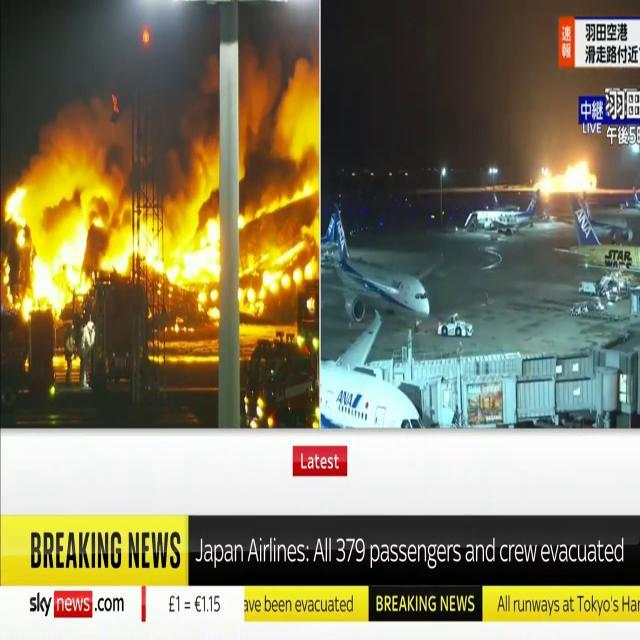Fire: (3, 156, 221, 320), (238, 31, 320, 317), (532, 150, 602, 204)
Smoke: (1, 1, 219, 195)
